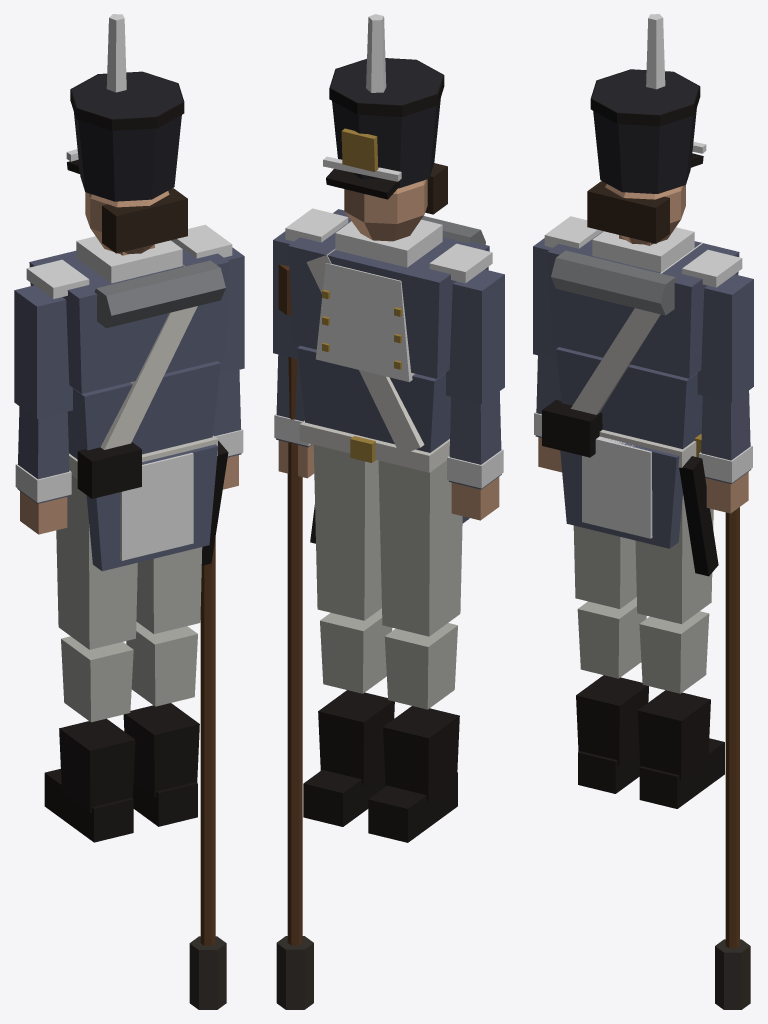
The model's file is soldier_c19_artillery_lod0.glb.
3 views of the same model, side by side, from view 1: azimuth 30°, elevation 25°; view 2: azimuth 150°, elevation 25°; view 3: azimuth 330°, elevation 25° (orthographic). The views are drawn at different scales.
Visible parts, largest first — view 1: c19_artillery_lod0_static; view 2: c19_artillery_lod0_static; view 3: c19_artillery_lod0_static.
Boxes of the visible parts, left/top/right/bottom form: c19_artillery_lod0_static: left=14, top=14, right=244, bottom=1009; c19_artillery_lod0_static: left=273, top=14, right=504, bottom=1009; c19_artillery_lod0_static: left=533, top=14, right=753, bottom=1009.
Bounding box in the file's own units: 0.58 × 2.68 × 0.35.
